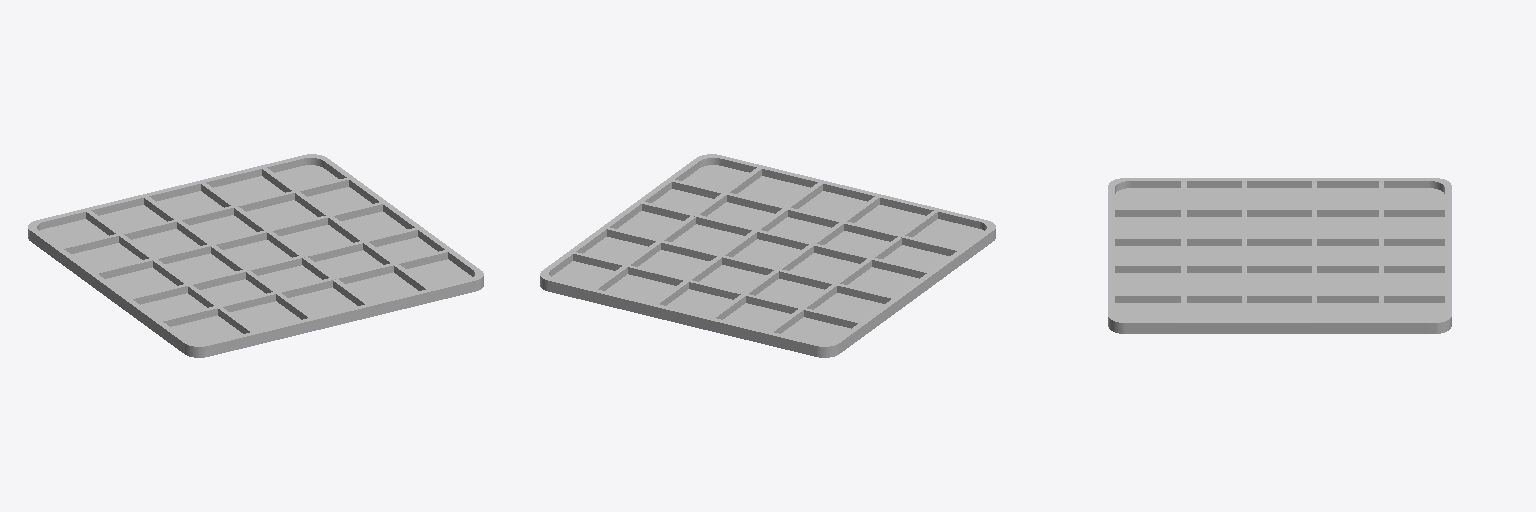
The model's file is New5x5Board.obj.
The picture shows the model from 3 angles: view 1: azimuth 30°, elevation 25°; view 2: azimuth 150°, elevation 25°; view 3: azimuth 270°, elevation 25°; orthographic projection.
Visible parts, largest first — view 1: Board_5x5_Circle.006; view 2: Board_5x5_Circle.006; view 3: Board_5x5_Circle.006.
Part boxes in pixels (x1,y1,x2,y2): Board_5x5_Circle.006: (28,154,483,357); Board_5x5_Circle.006: (540,154,995,357); Board_5x5_Circle.006: (1108,178,1451,333).
Size of the model in its own units: 54.37 by 1.92 by 54.37.